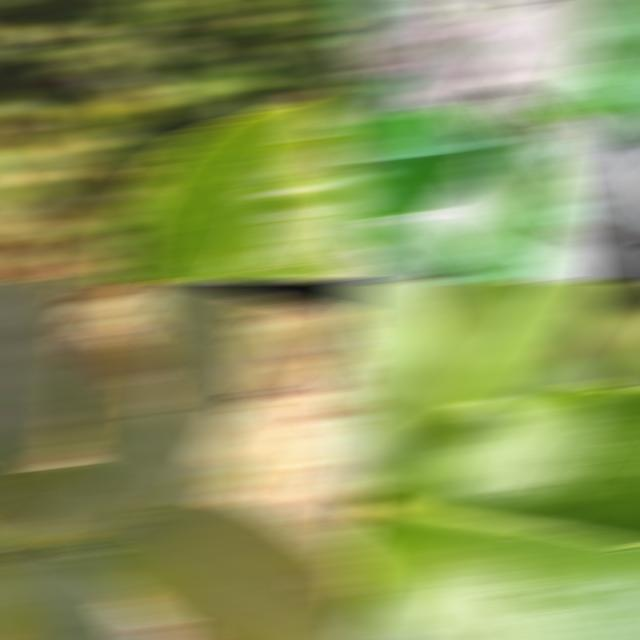Leaf: (354, 382, 640, 639), (112, 86, 364, 280), (85, 503, 364, 639), (397, 282, 614, 449), (133, 282, 260, 473), (0, 282, 90, 489), (340, 282, 442, 448), (448, 139, 568, 280), (340, 108, 497, 215), (63, 352, 160, 508), (9, 544, 147, 639), (536, 1, 640, 118), (176, 371, 259, 501), (117, 409, 200, 511), (251, 325, 331, 395), (288, 305, 360, 381), (482, 112, 542, 199), (233, 412, 287, 503), (371, 223, 459, 277), (340, 69, 409, 123), (340, 521, 378, 608), (340, 214, 394, 248)
